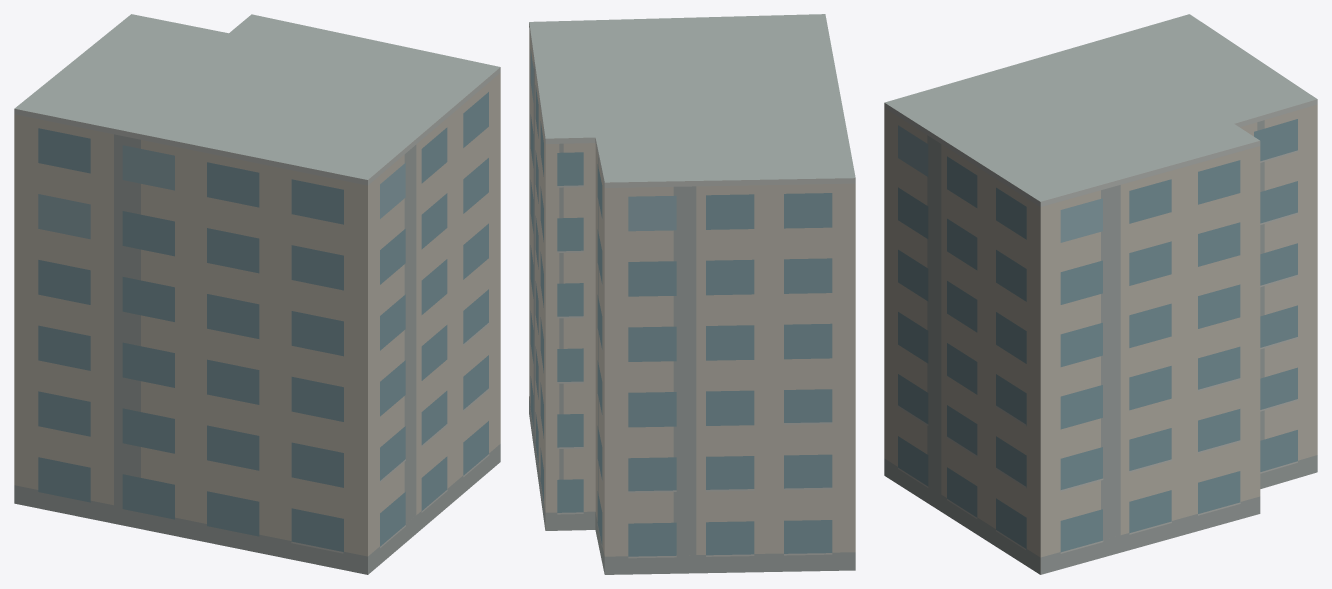
Rendered from survey-upis-33001826.glb.
The picture shows the model from 3 angles, left to right: view 1: azimuth 30°, elevation 25°; view 2: azimuth 150°, elevation 25°; view 3: azimuth 270°, elevation 25°; orthographic projection. The views are drawn at different scales.
Visible parts, largest first — view 1: survey-upis-33001826.tmp; view 2: survey-upis-33001826.tmp; view 3: survey-upis-33001826.tmp.
Boxes of the visible parts, left/top/right/bottom form: survey-upis-33001826.tmp: left=14, top=14, right=500, bottom=574; survey-upis-33001826.tmp: left=529, top=14, right=855, bottom=574; survey-upis-33001826.tmp: left=884, top=14, right=1317, bottom=574.
Size of the model in its own units: 18.85 by 17.45 by 18.38.
